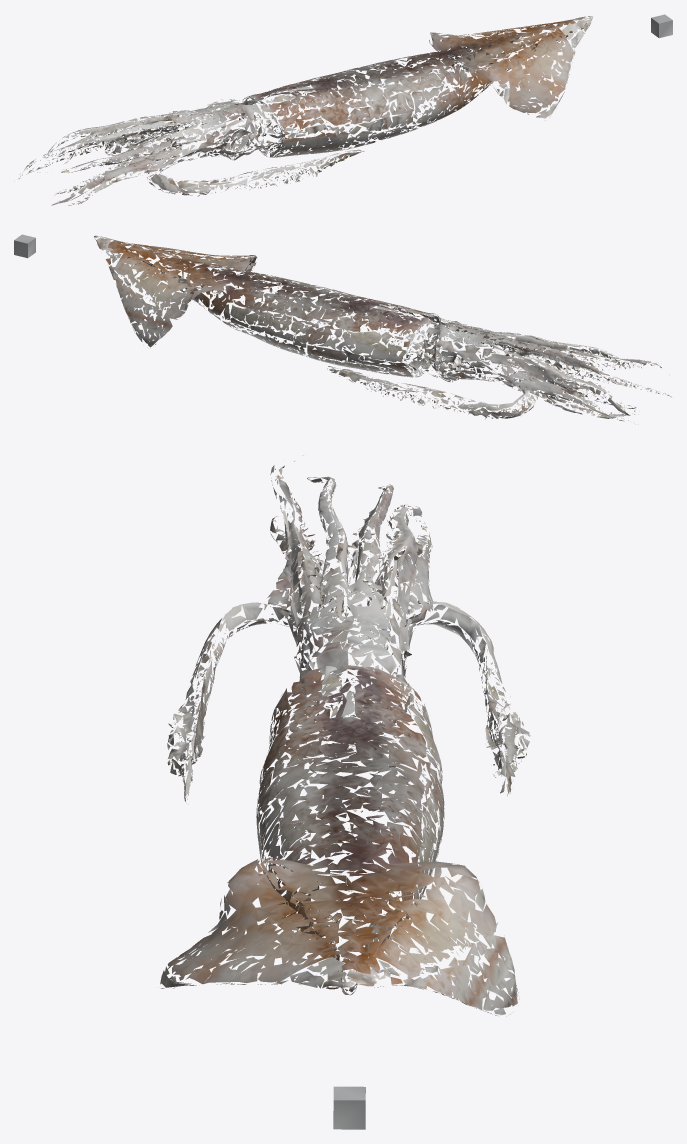
File: fauna-giant-squid-scan.glb
The picture shows the model from 3 angles, top to bottom: view 1: azimuth 30°, elevation 25°; view 2: azimuth 150°, elevation 25°; view 3: azimuth 270°, elevation 25°; orthographic projection. The views are drawn at different scales.
Parts seen in each view (by area): view 1: Q11753-1all-4_5, Cube_2; view 2: Q11753-1all-4_5, Cube_2; view 3: Q11753-1all-4_5, Cube_2.
Boxes of the visible parts, x1,y1,x2,y2 form: Q11753-1all-4_5: (18, 16, 592, 205); Cube_2: (651, 14, 672, 37); Q11753-1all-4_5: (94, 235, 671, 424); Cube_2: (14, 234, 35, 258); Q11753-1all-4_5: (160, 455, 530, 1016); Cube_2: (333, 1086, 365, 1129).
Bounding box in the file's own units: 24.67 × 2.54 × 6.23.
